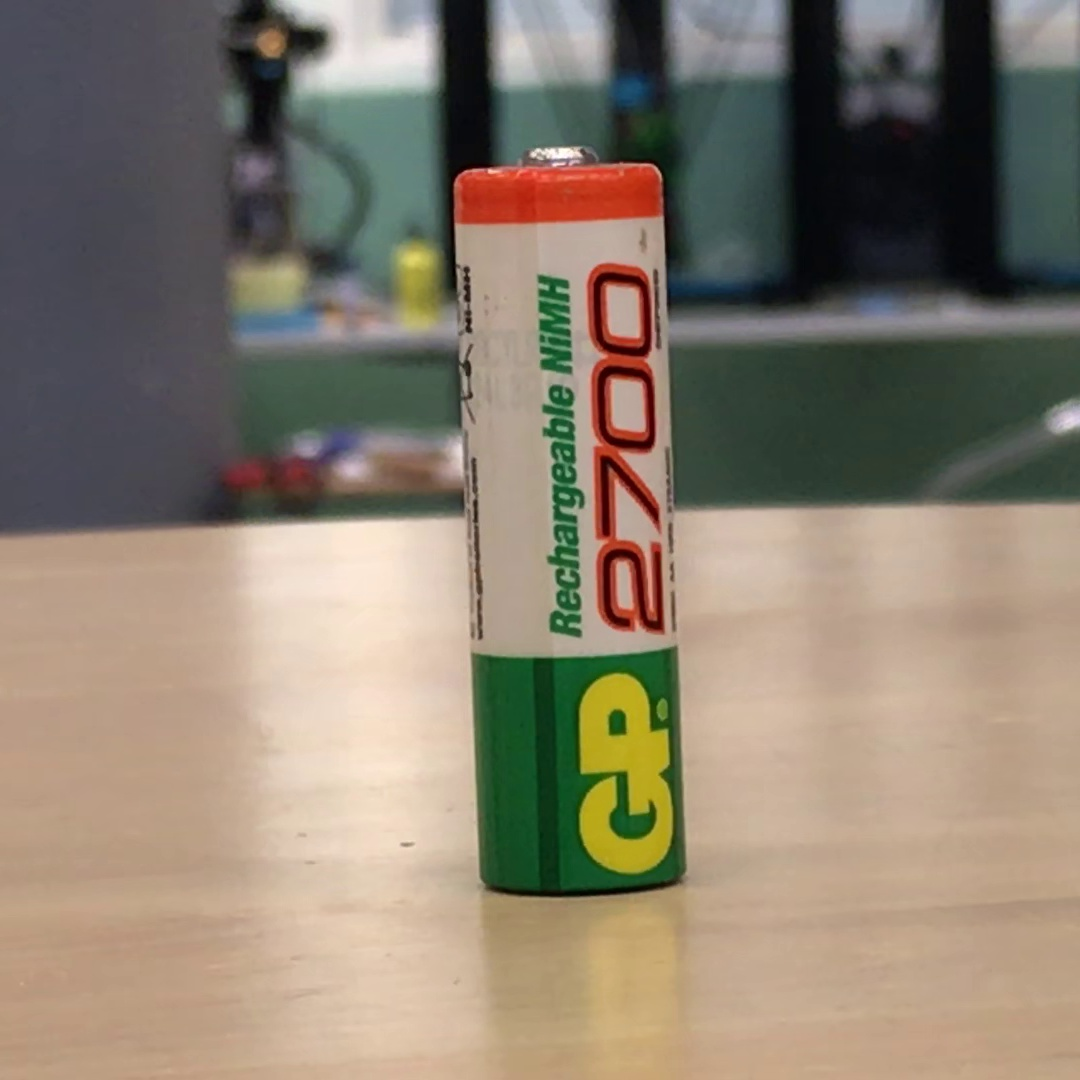keyword: (528, 265, 582, 384)
